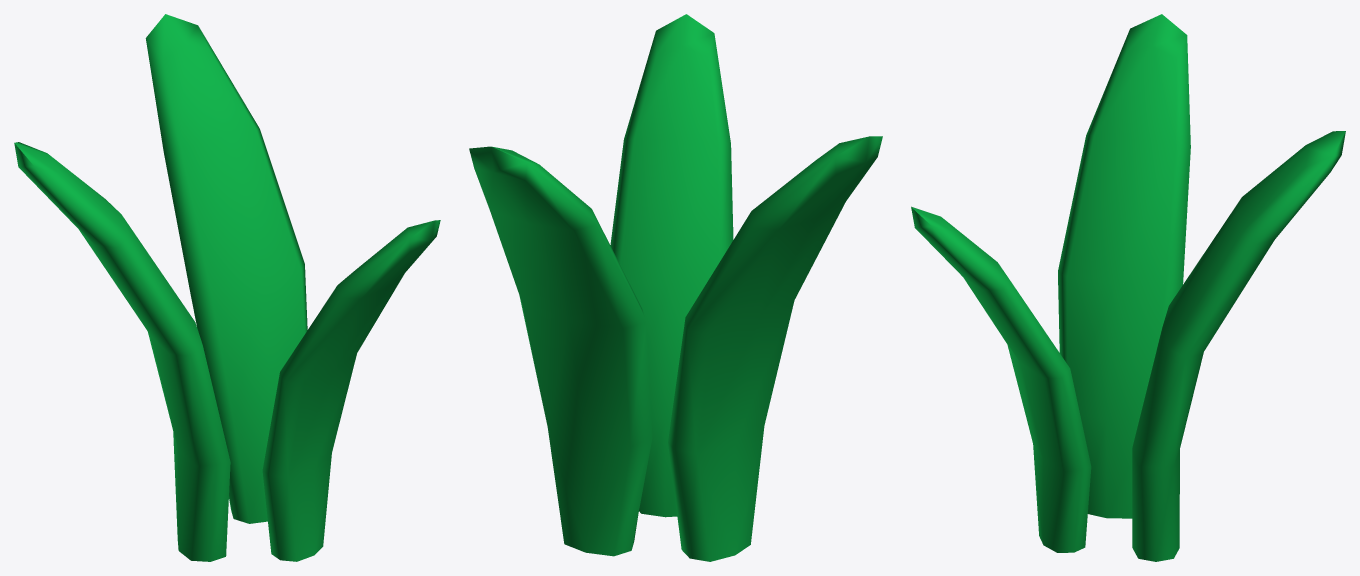
File: Town_1_Grass_1.glb
The picture shows the model from 3 angles, left to right: view 1: azimuth 30°, elevation 25°; view 2: azimuth 150°, elevation 25°; view 3: azimuth 270°, elevation 25°; orthographic projection. The views are drawn at different scales.
Visible parts, largest first — view 1: Town_1_Grass_1; view 2: Town_1_Grass_1; view 3: Town_1_Grass_1.
Part boxes in pixels (box(x1,y1,x2,y2)): Town_1_Grass_1: box(14, 14, 440, 561); Town_1_Grass_1: box(469, 14, 882, 561); Town_1_Grass_1: box(911, 14, 1345, 561).
Size of the model in its own units: 0.2496 by 0.3294 by 0.3113.
Materials: 1 (1 with a texture image).
